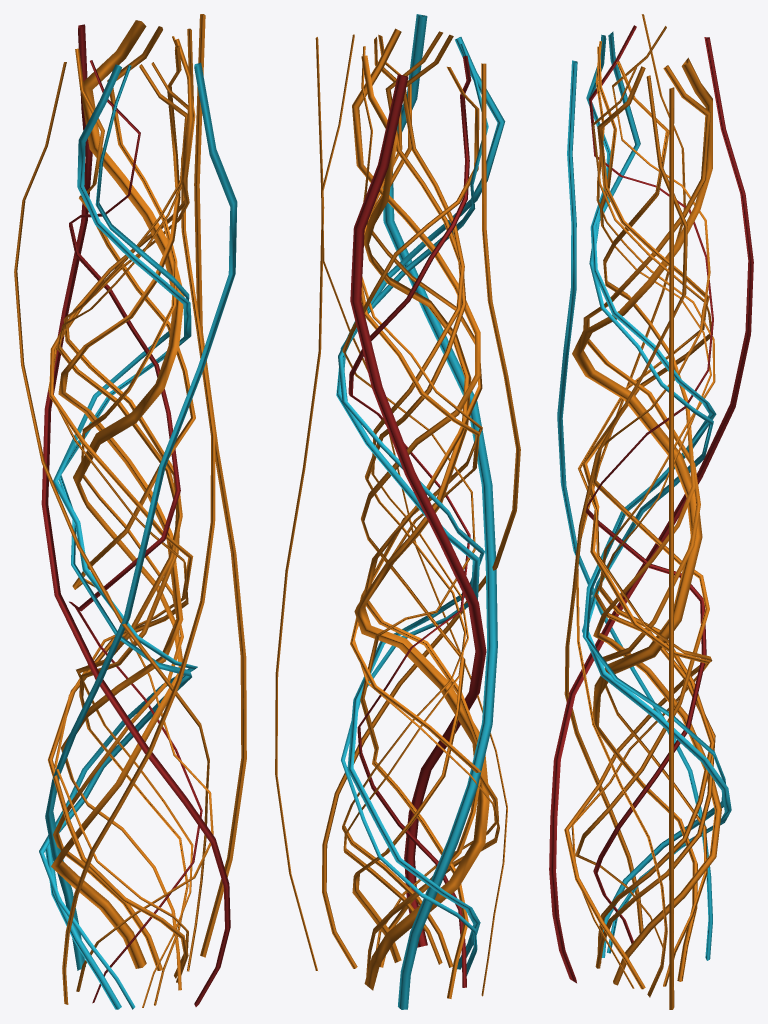
The model's file is v cable lod1.FBX.
3 views of the same model, side by side, from view 1: azimuth 30°, elevation 25°; view 2: azimuth 150°, elevation 25°; view 3: azimuth 270°, elevation 25° (orthographic). The views are drawn at different scales.
Parts seen in each view (by area): view 1: Line008; view 2: Line008; view 3: Line008.
Boxes of the visible parts, x1,y1,x2,y2 form: Line008: [14, 14, 246, 1009]; Line008: [275, 14, 520, 1009]; Line008: [549, 14, 753, 1009].
Bounding box in the file's own units: 1.02 × 4.02 × 0.8064.
